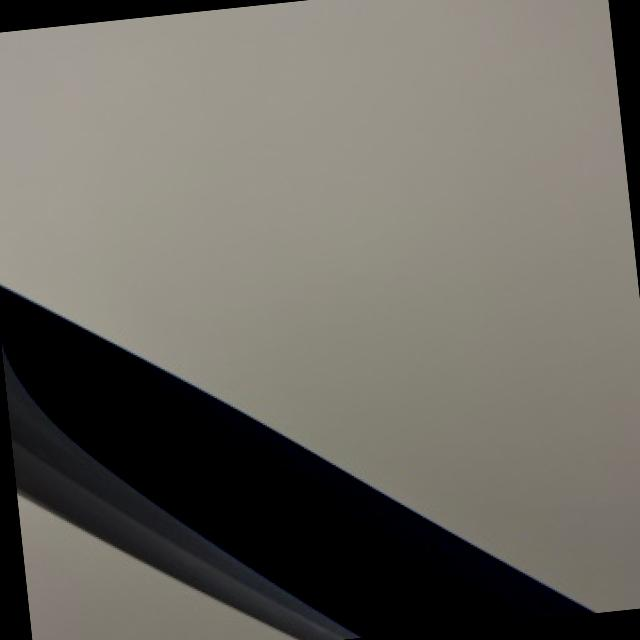healthy: (0, 285, 591, 640)
